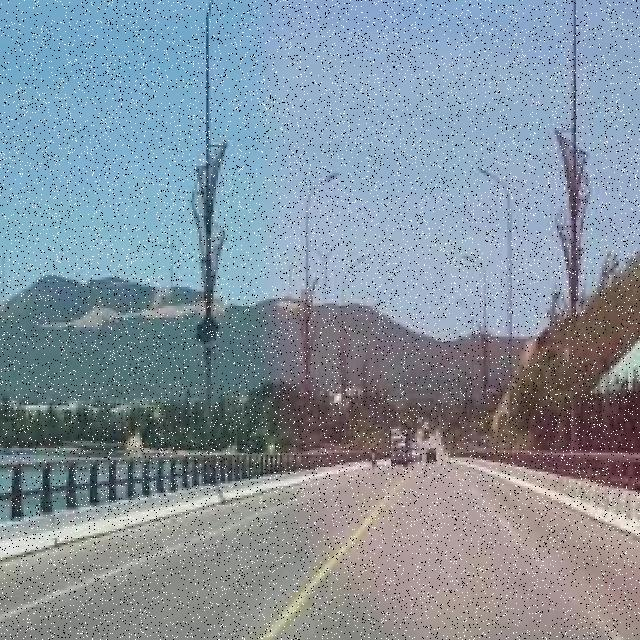clear-road: (0, 465, 640, 640)
